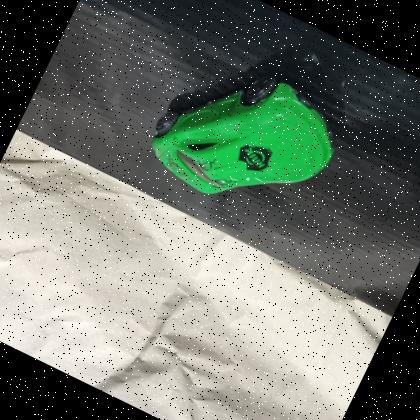Car: (131, 32, 359, 244)
